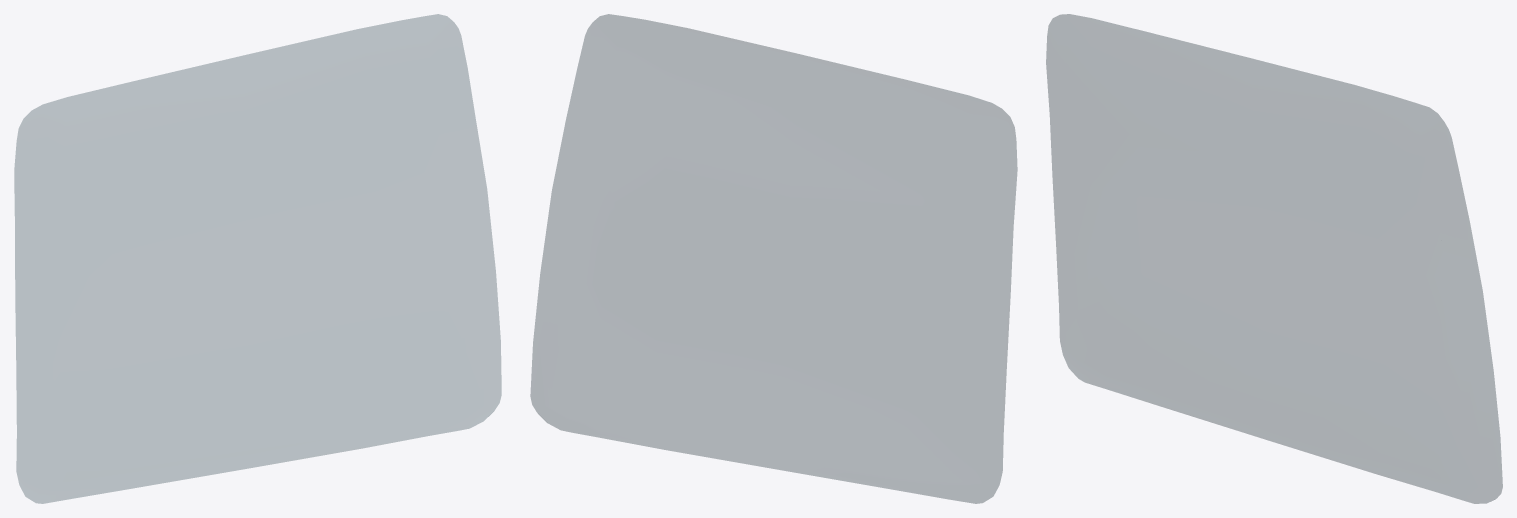
The picture shows the model from 3 angles, left to right: view 1: azimuth 30°, elevation 25°; view 2: azimuth 150°, elevation 25°; view 3: azimuth 330°, elevation 25°; orthographic projection. The views are drawn at different scales.
Parts seen in each view (by area): view 1: SM_ActrosFiretruck_Door_FL_Glass_Int1; view 2: SM_ActrosFiretruck_Door_FL_Glass_Int1; view 3: SM_ActrosFiretruck_Door_FL_Glass_Int1.
Boxes of the visible parts, x1=… form: SM_ActrosFiretruck_Door_FL_Glass_Int1: x1=14, y1=14, x2=501, y2=503; SM_ActrosFiretruck_Door_FL_Glass_Int1: x1=530, y1=14, x2=1017, y2=503; SM_ActrosFiretruck_Door_FL_Glass_Int1: x1=1046, y1=14, x2=1502, y2=503.
Bounding box in the file's own units: 0.9626 × 0.8157 × 0.0325.
